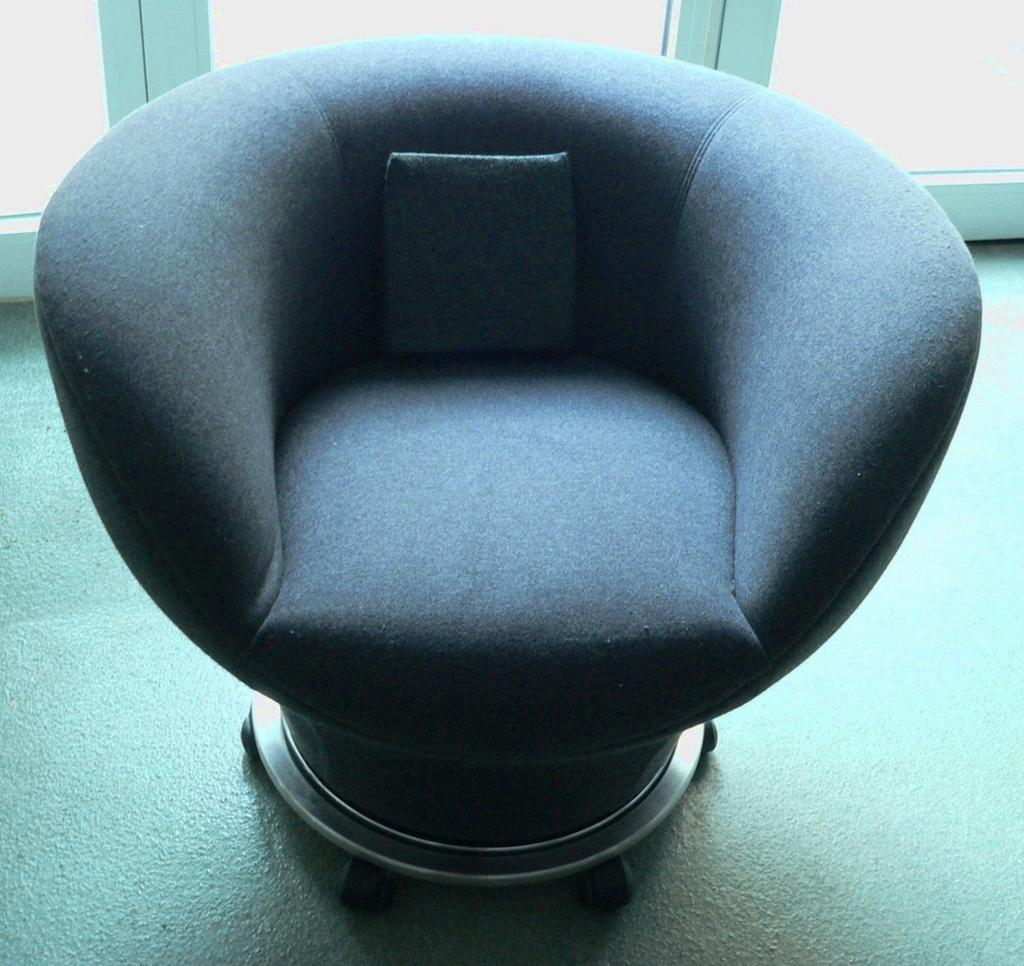Chair: (35, 57, 986, 911)
